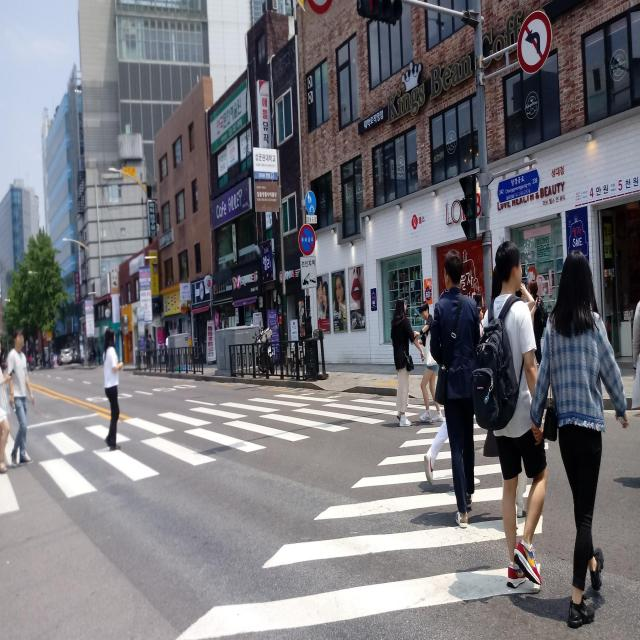초록불: (459, 173, 481, 241)
횡단보도: (169, 413, 550, 640), (0, 393, 432, 516)
